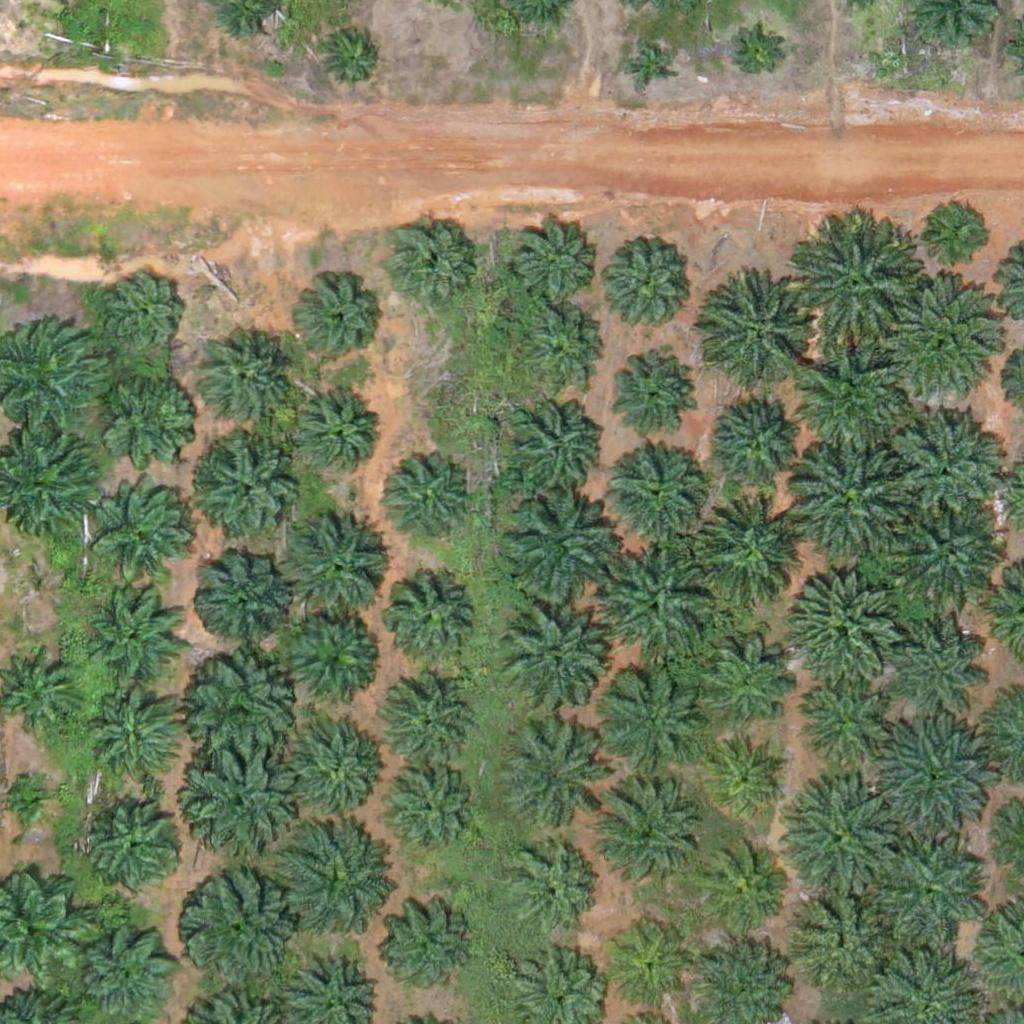Kelapa_Sawit: (794, 227, 919, 353), (894, 282, 1007, 396), (690, 495, 803, 609), (876, 717, 989, 830), (797, 345, 910, 458), (788, 446, 901, 559), (785, 566, 898, 679), (683, 626, 796, 739), (282, 820, 395, 933), (180, 747, 293, 860), (793, 784, 905, 898), (595, 660, 707, 774), (592, 776, 704, 890), (501, 492, 613, 606), (875, 835, 987, 948), (894, 497, 1006, 610), (889, 410, 1001, 523), (600, 551, 712, 664), (276, 508, 388, 621), (193, 436, 305, 549), (186, 655, 298, 768), (892, 604, 992, 705), (712, 388, 812, 489), (596, 232, 696, 333), (496, 724, 596, 825), (372, 452, 472, 553), (377, 673, 477, 774), (378, 762, 478, 863), (287, 714, 387, 815), (279, 606, 379, 707), (195, 328, 295, 429), (182, 871, 282, 972), (87, 795, 187, 896), (87, 691, 187, 792), (82, 585, 182, 686), (97, 482, 197, 583), (796, 887, 896, 987), (707, 286, 807, 386), (609, 442, 709, 542), (500, 611, 600, 711), (505, 395, 605, 495), (381, 567, 481, 667), (191, 548, 291, 648), (101, 360, 201, 460), (702, 734, 790, 822), (791, 680, 879, 768), (694, 846, 782, 934), (603, 348, 691, 436), (505, 842, 593, 930), (385, 217, 473, 305), (288, 388, 376, 476), (607, 922, 694, 1010), (523, 303, 610, 391), (511, 220, 598, 308), (382, 901, 469, 989), (298, 277, 385, 365), (102, 273, 189, 361), (322, 27, 385, 90), (927, 201, 990, 264), (731, 31, 781, 82), (624, 40, 674, 91), (5, 771, 55, 821)
